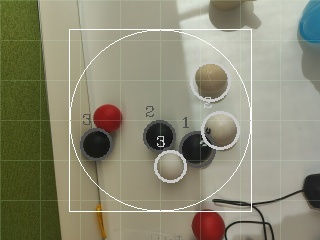Pelota blanca: (193, 61, 229, 105), (207, 0, 259, 30), (201, 109, 239, 150), (153, 149, 189, 184), (223, 219, 275, 240), (207, 0, 242, 10)
Pelota negra: (297, 0, 320, 90), (141, 119, 176, 153), (79, 127, 112, 160), (301, 171, 320, 210)
Pelota roja: (191, 211, 226, 240), (93, 103, 122, 132)
